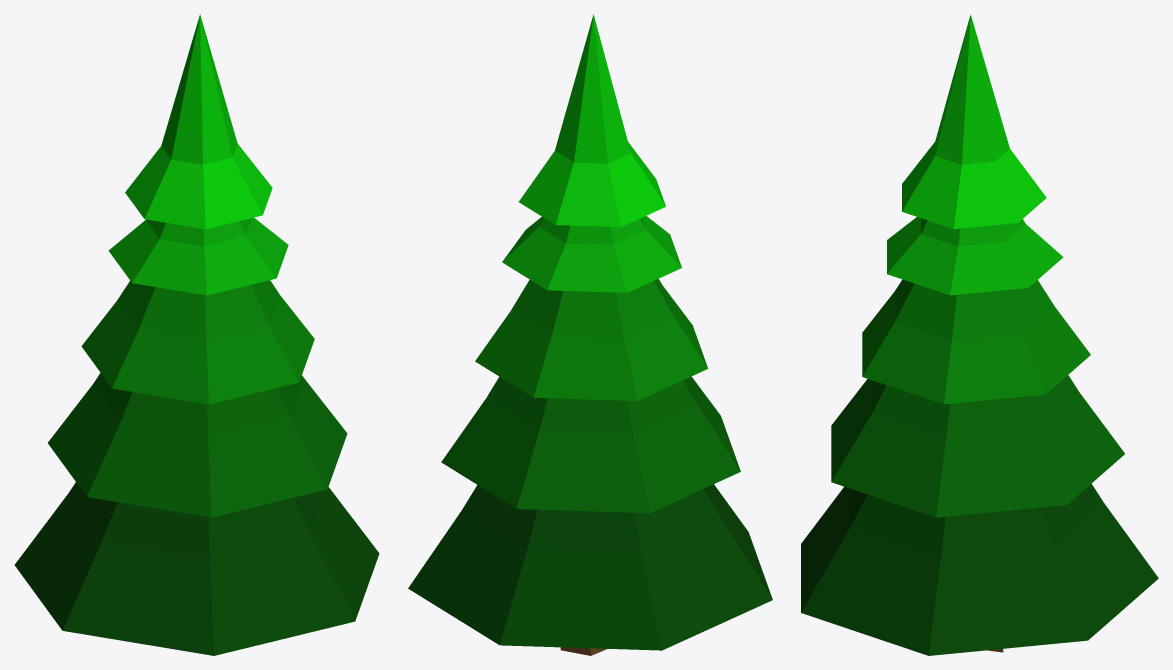
Rendered from Pin (2).fbx.
The picture shows the model from 3 angles, left to right: view 1: azimuth 30°, elevation 25°; view 2: azimuth 150°, elevation 25°; view 3: azimuth 270°, elevation 25°; orthographic projection.
Visible parts, largest first — view 1: Vert.026; view 2: Vert.026; view 3: Vert.026.
Part boxes in pixels (bbox=[...]): Vert.026: bbox=[14, 14, 379, 655]; Vert.026: bbox=[408, 14, 772, 655]; Vert.026: bbox=[801, 14, 1158, 655].
Size of the model in its own units: 1425 by 2700 by 1389.
